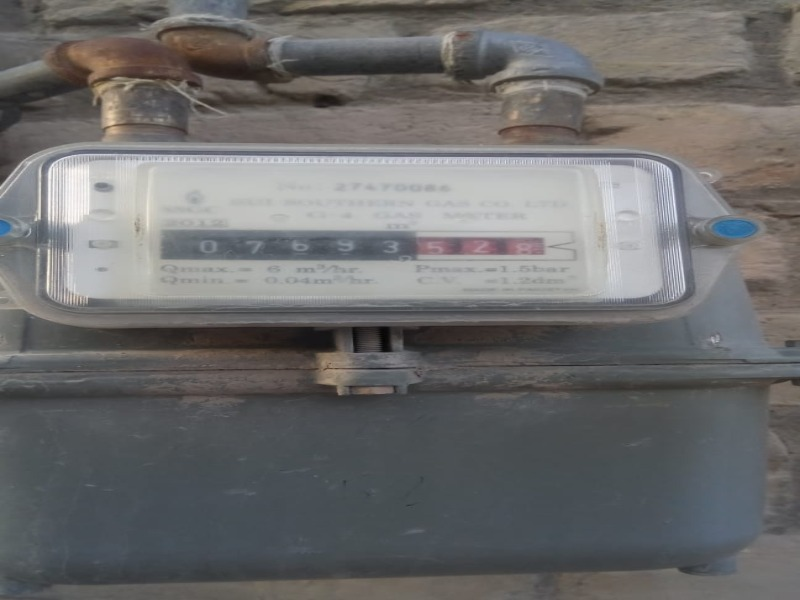ssgc: (168, 231, 556, 258)
